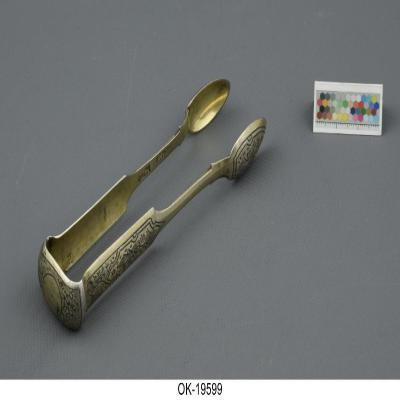dpi: (36, 79, 266, 333)
